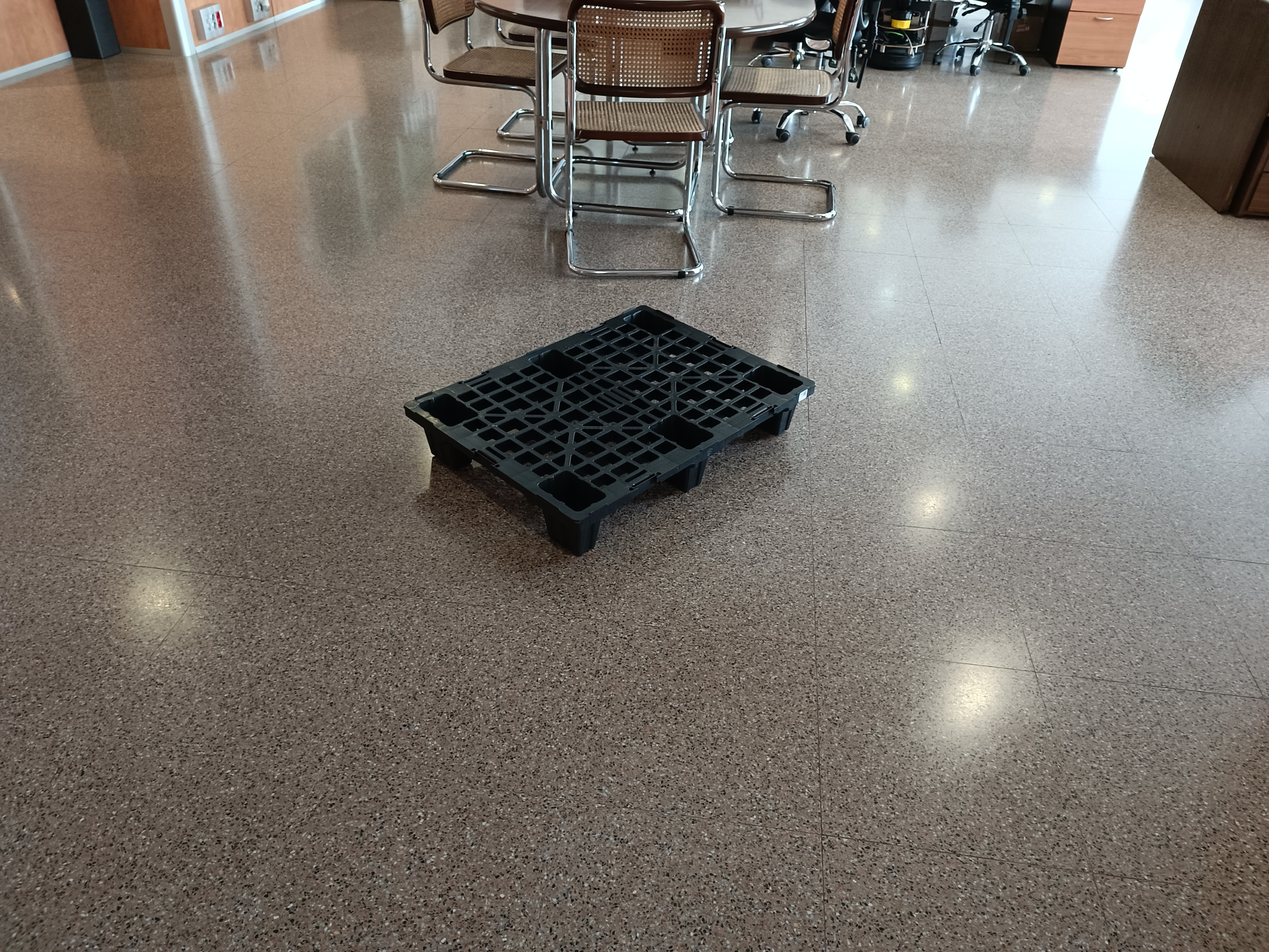block: (547, 505, 599, 555), (763, 384, 808, 440), (427, 426, 470, 469), (677, 450, 706, 499)
front: (577, 386, 817, 558)
hole pallet: (592, 467, 688, 549), (713, 411, 779, 480)
